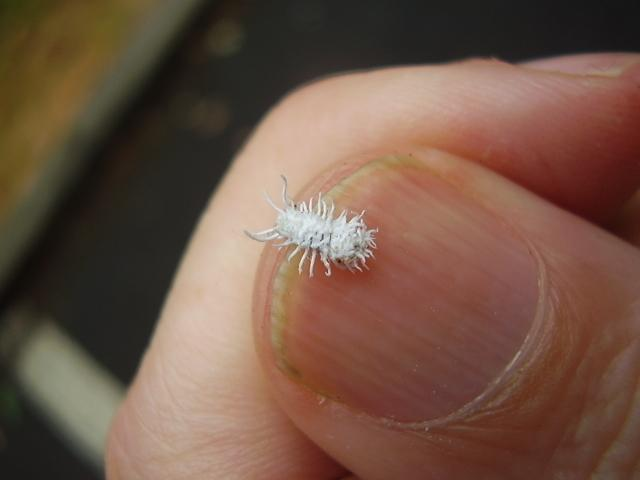ladybug: (244, 172, 384, 280)
